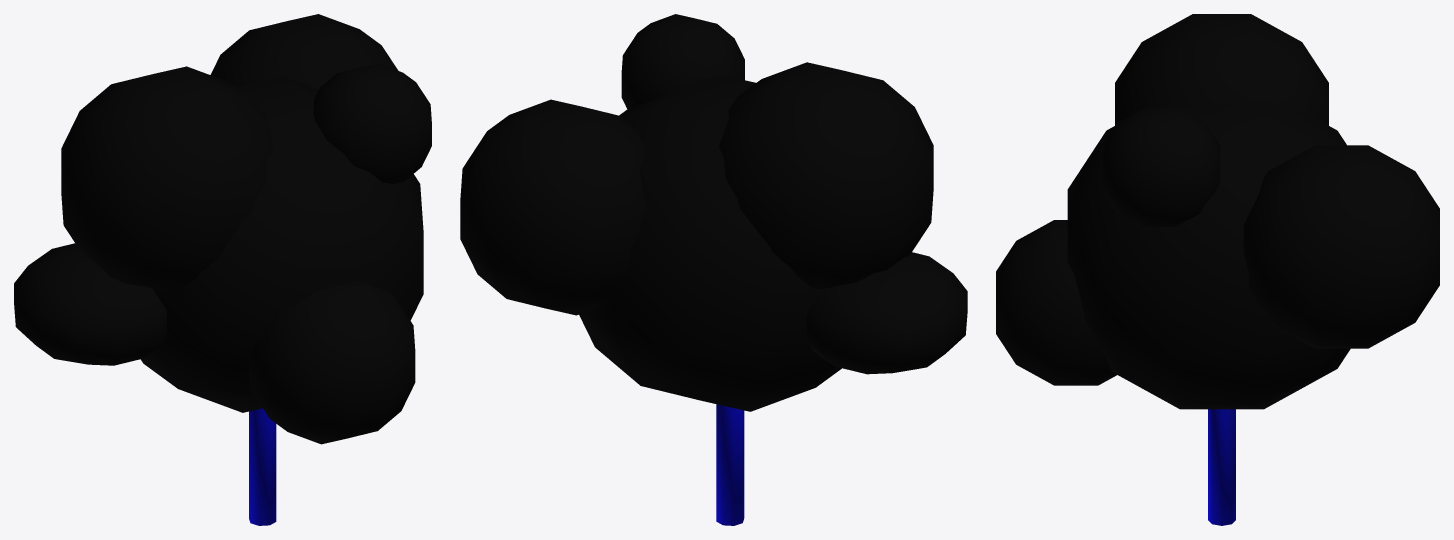
File: tree_oak.glb
3 views of the same model, side by side, from view 1: azimuth 30°, elevation 25°; view 2: azimuth 150°, elevation 25°; view 3: azimuth 270°, elevation 25° (orthographic). The views are drawn at different scales.
Parts seen in each view (by area): view 1: Cube.001; view 2: Cube.001; view 3: Cube.001.
Part boxes in pixels (x1=…): Cube.001: x1=14, y1=14, x2=431, y2=525; Cube.001: x1=460, y1=14, x2=967, y2=525; Cube.001: x1=996, y1=14, x2=1439, y2=525.
Size of the model in its own units: 17.41 by 18.15 by 16.26.
